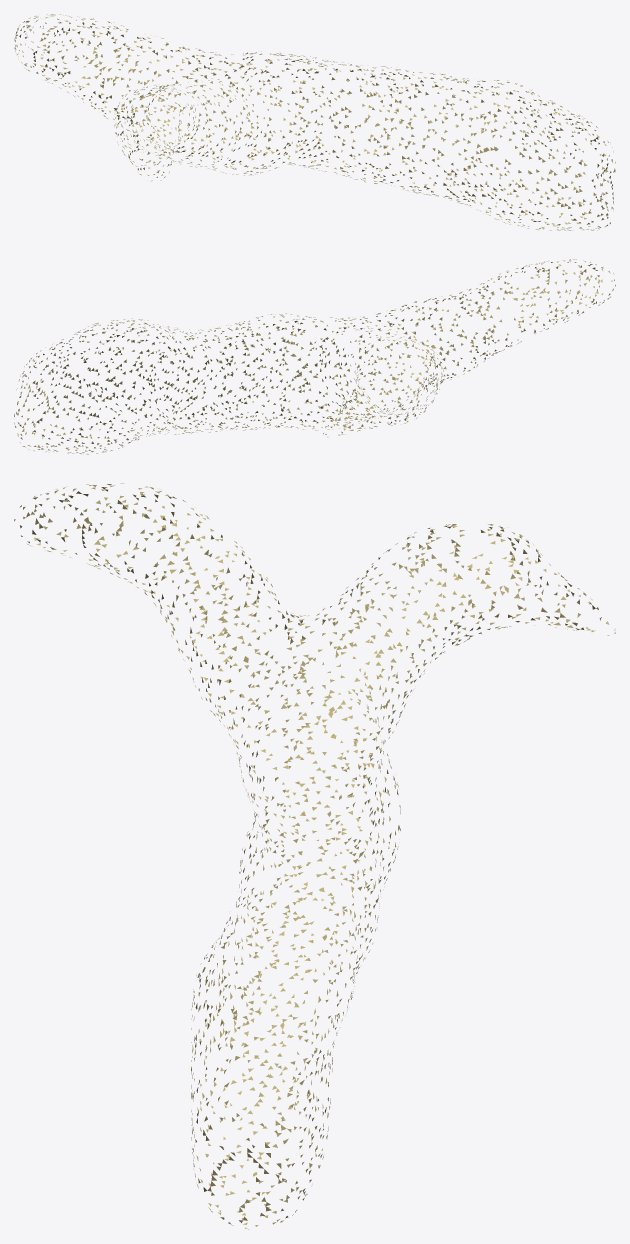
File: morph_008.glb
3 views of the same model, one above another, from view 1: azimuth 30°, elevation 25°; view 2: azimuth 150°, elevation 25°; view 3: azimuth 270°, elevation 25° (orthographic). The views are drawn at different scales.
Size of the model in its own units: 113 by 55.55 by 76.35.
